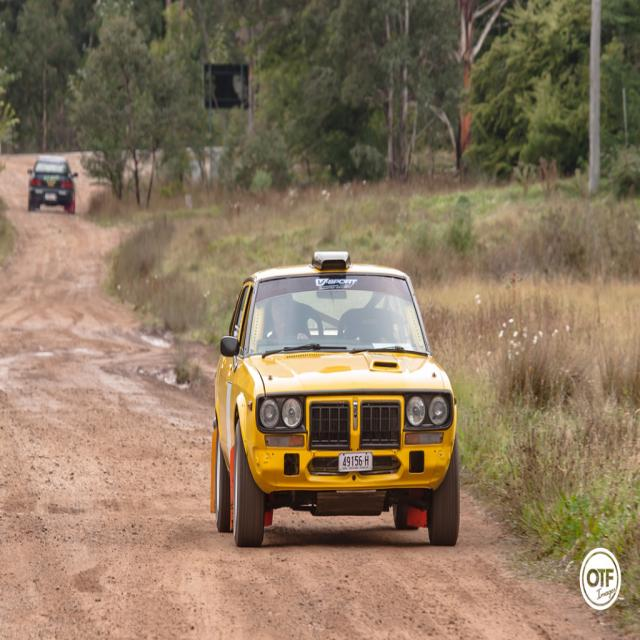car: (207, 237, 456, 557), (25, 153, 79, 209)
